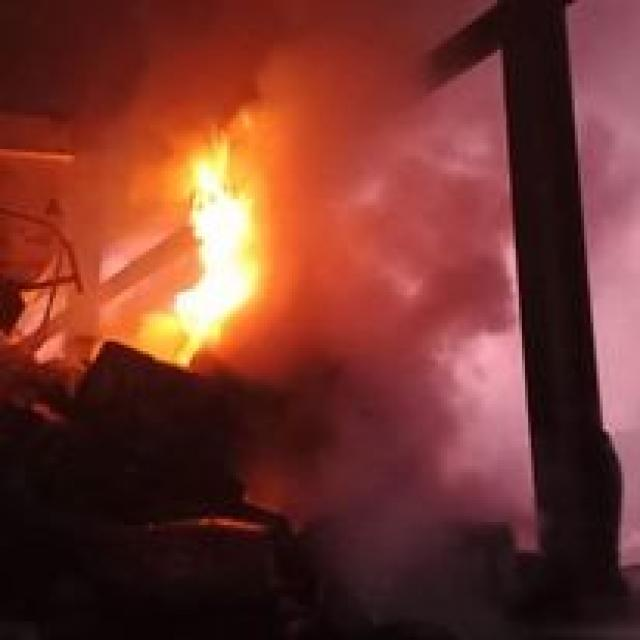Fire: (174, 137, 268, 370)
Smoke: (282, 4, 640, 516)
